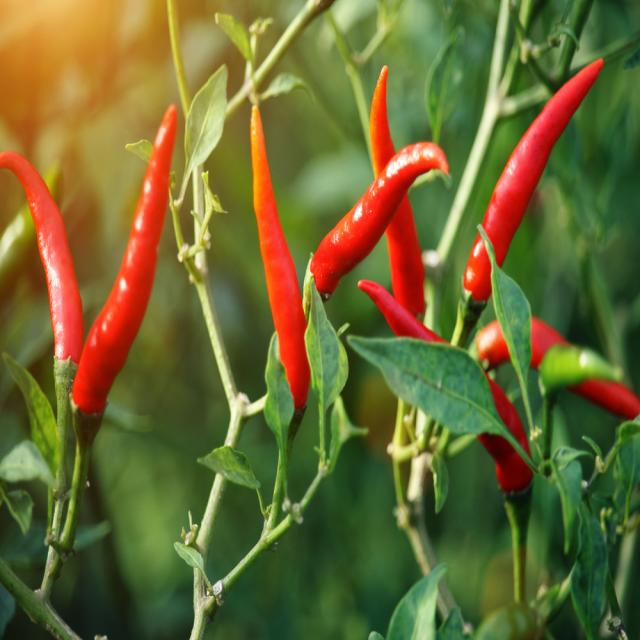Ripe: (356, 276, 535, 493), (462, 60, 603, 301), (72, 105, 178, 415), (310, 142, 449, 298), (250, 105, 310, 409), (0, 152, 84, 364), (367, 64, 424, 315)
